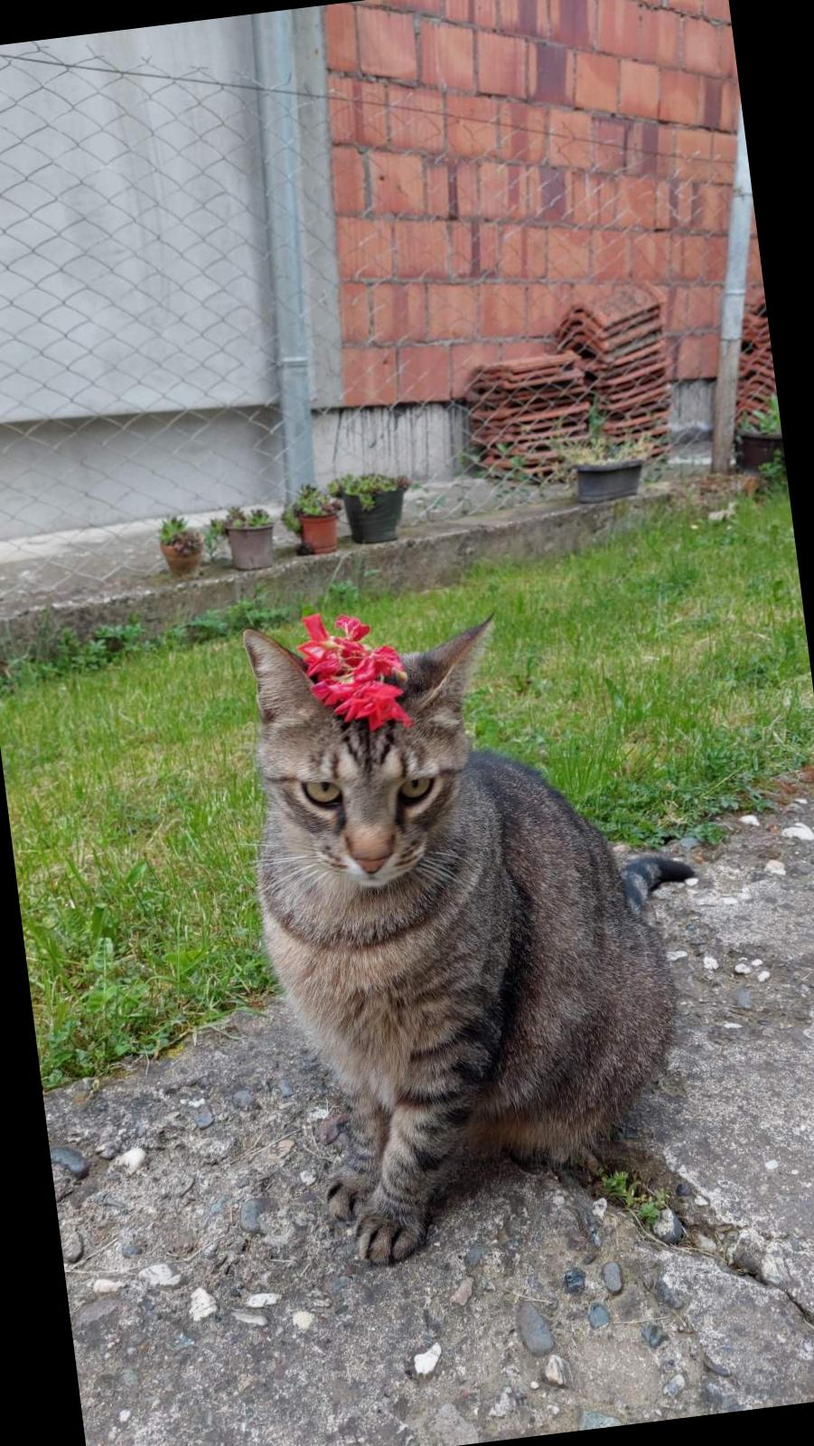macka: (225, 569, 737, 1273)
